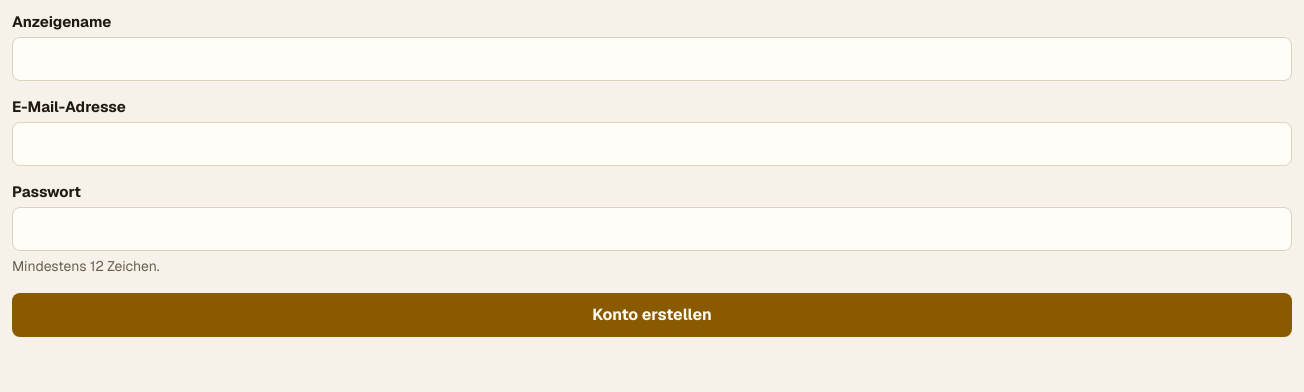
Test: RegisterForm › disables the pending submit and prevents a duplicate click
Type "Ada Spielerin" into the field labelled "Anzeigename" at (652, 59), box [12,37,1292,81]
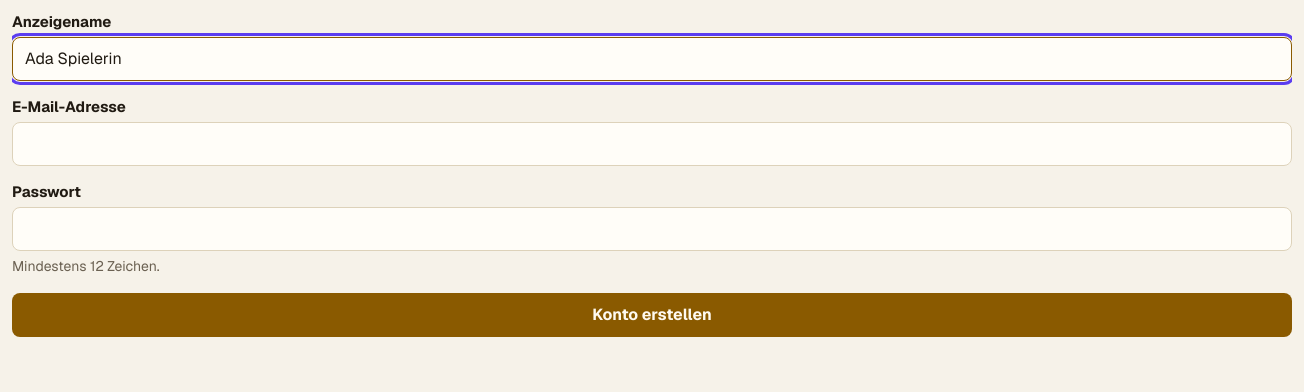
Type "ada.component@example.com" into the field labelled "E-Mail-Adresse" at (652, 144), box [12,122,1292,166]
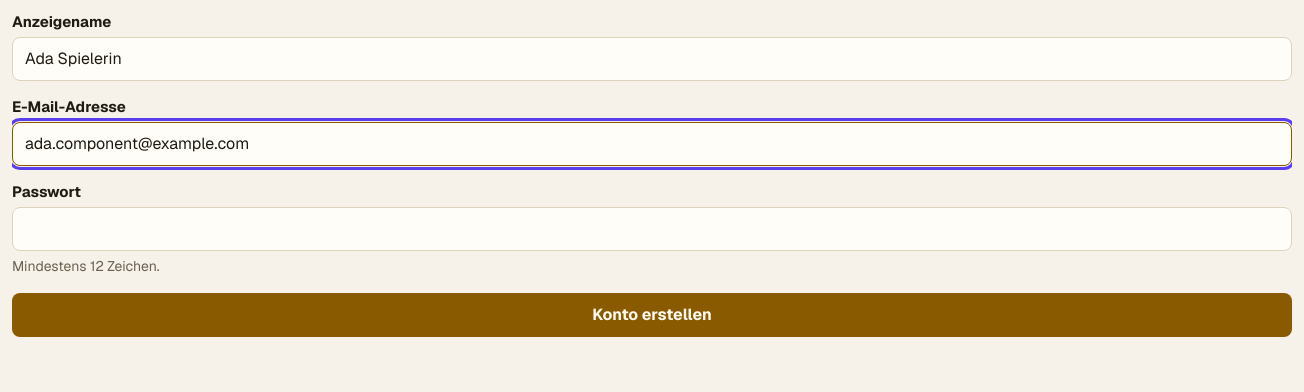
Type "correct horse battery staple" into the password field labelled "Passwort" at (652, 229), box [12,207,1292,251]
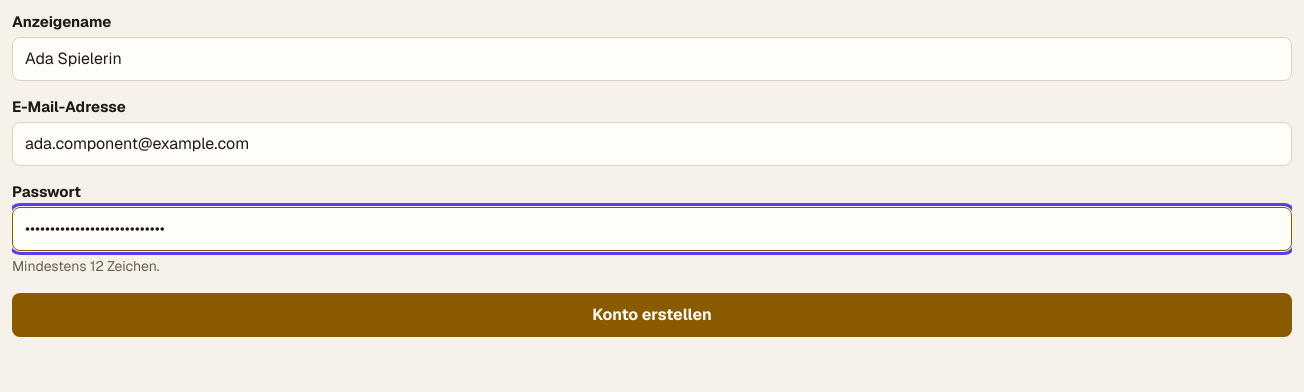
Click the button "Konto erstellen" at (652, 315), box [12,293,1292,337]
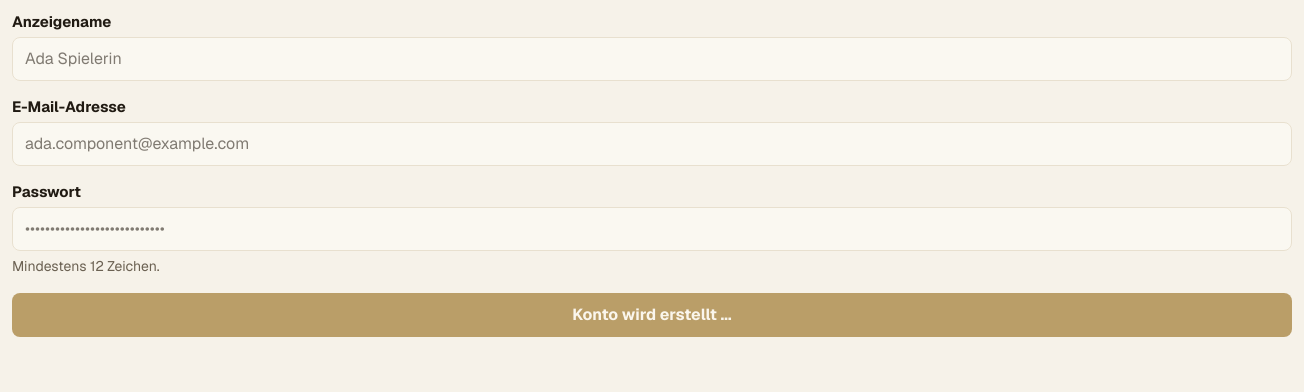
Expected: the button "Konto wird erstellt …" is disabled
Click the button "Konto wird erstellt …" at (652, 315), box [12,293,1292,337]
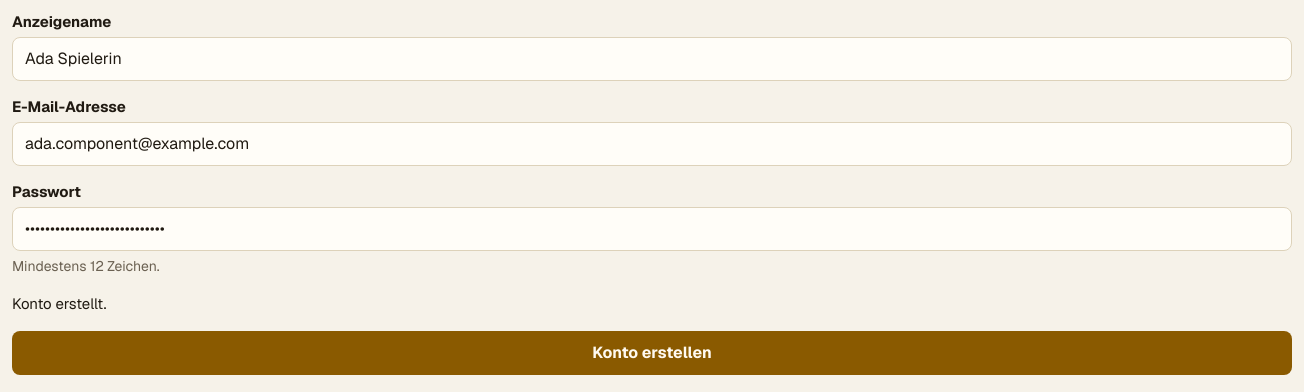
Expected: the message reads "Konto erstellt.", [12,294,106,313]
